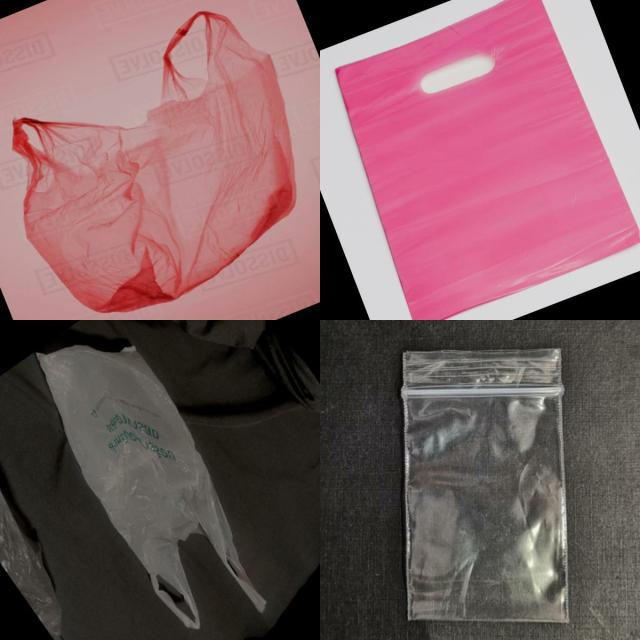Single-layer Plastic: (336, 0, 640, 319), (12, 12, 296, 312), (38, 346, 265, 628), (402, 351, 568, 621)
